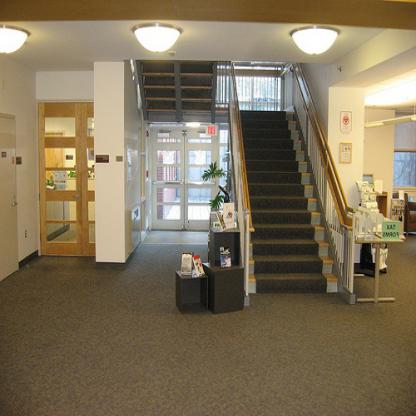stairs: (260, 238, 329, 316)
